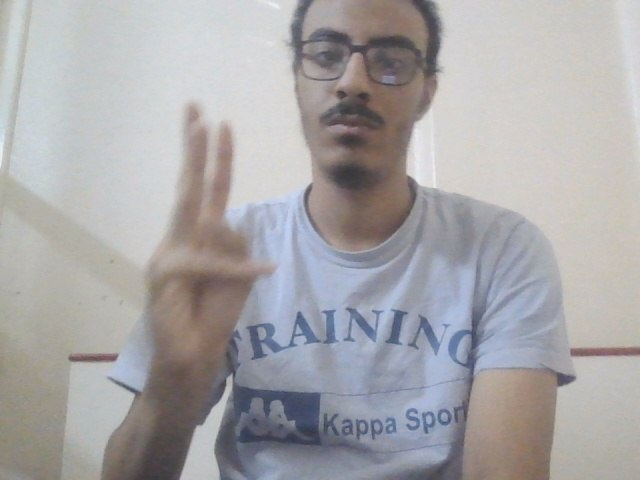Water: (137, 100, 283, 379)
